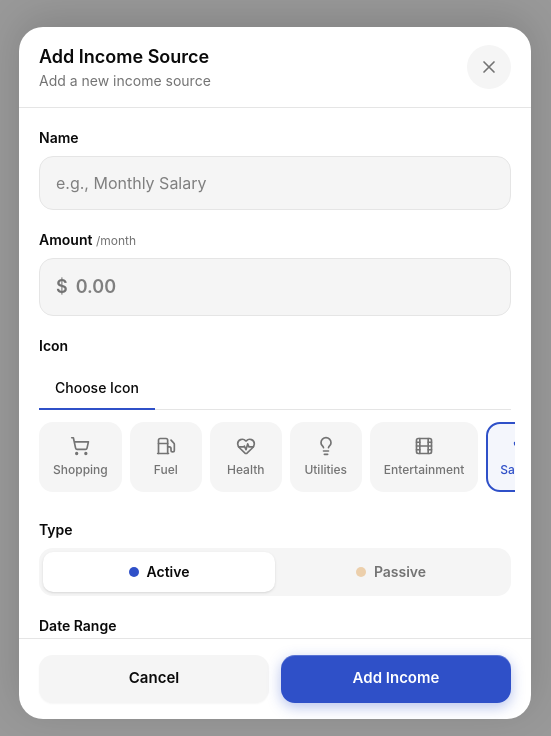
Test: IncomePopin — submit-reveal validation › distinguishes a zero amount from a malformed one
Type "0" into the field with placeholder "0.00". click: (285, 287)
box: [76,259,494,315]
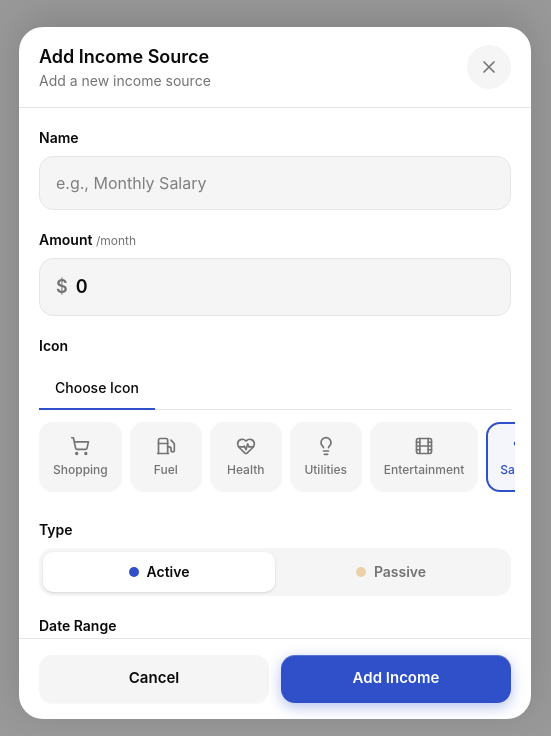
Click the button "Add Income". click: (396, 679)
box: [281,655,511,703]
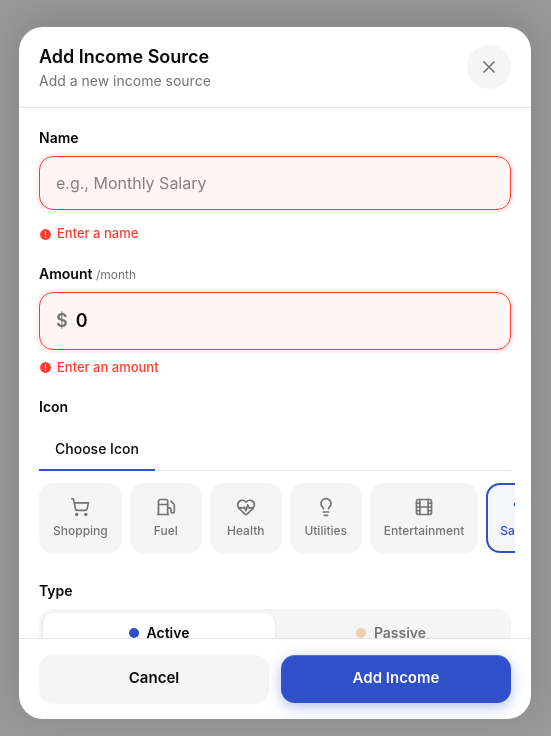
Now the text "Enter an amount" is shown, box [57,358,159,377]
Replace the text in the field with placeholder "0.00" with "12.". click: (285, 321)
box: [76,293,494,349]
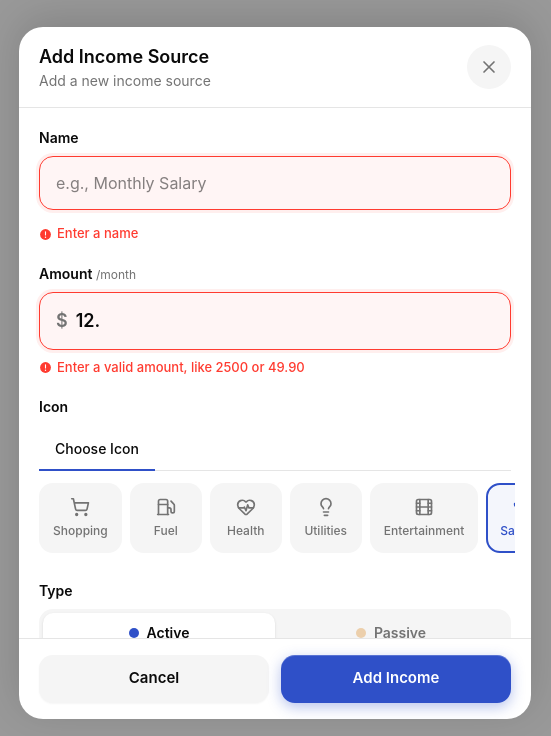
Now the text "Enter a valid amount, like 2500 or 49.90" is shown, box [57,358,305,377]
